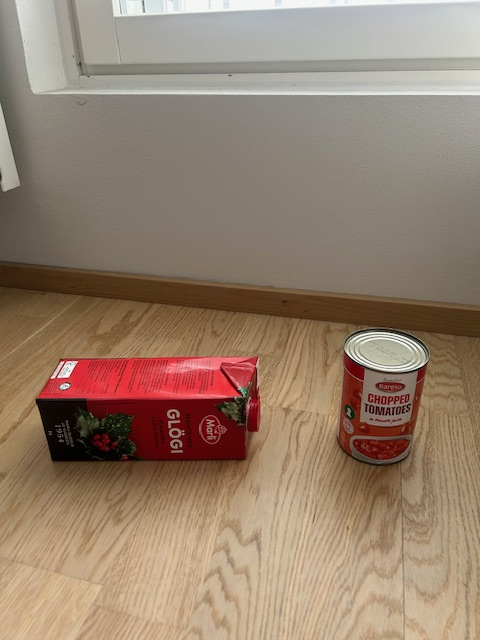Dryckeskartong: (35, 355, 261, 462)
Konservburk: (336, 327, 431, 466)
